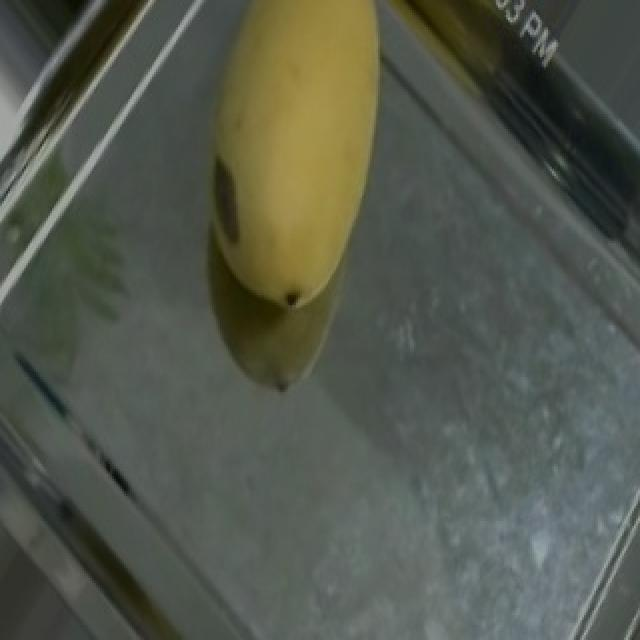fruit: (160, 0, 470, 342)
